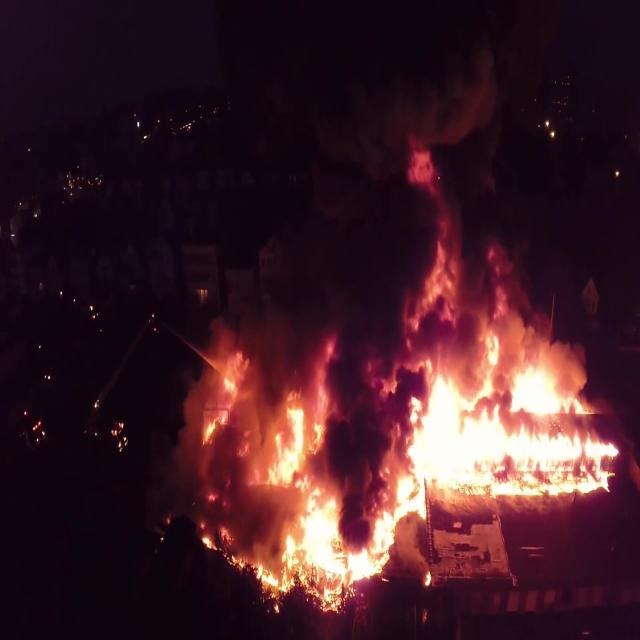Fire: (178, 361, 391, 586), (397, 330, 620, 508)
Smoke: (231, 6, 548, 358), (325, 352, 385, 541)
